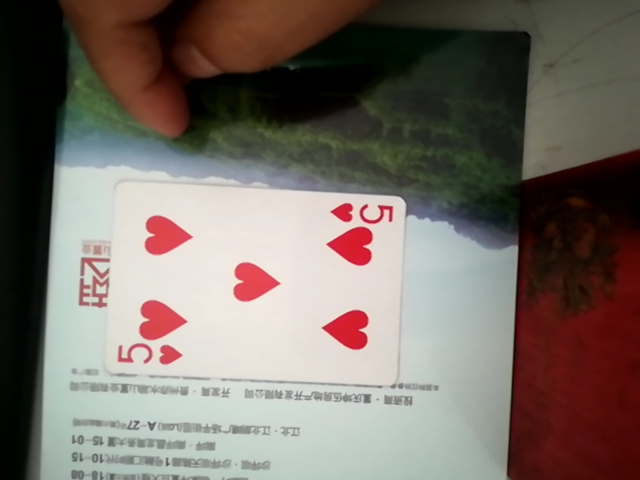hx 5: (86, 179, 409, 383)
